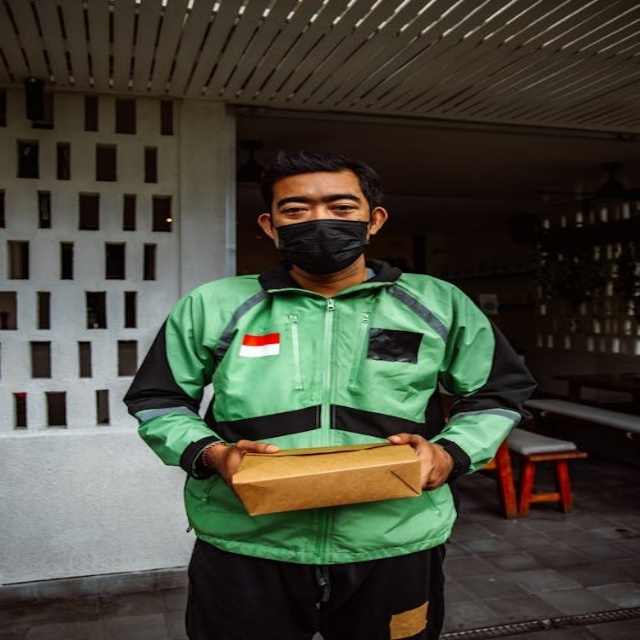Mascara: (274, 219, 371, 273)
Sin_gafas: (270, 196, 364, 218)
Sin_guantes: (379, 423, 463, 496), (198, 430, 285, 498)
